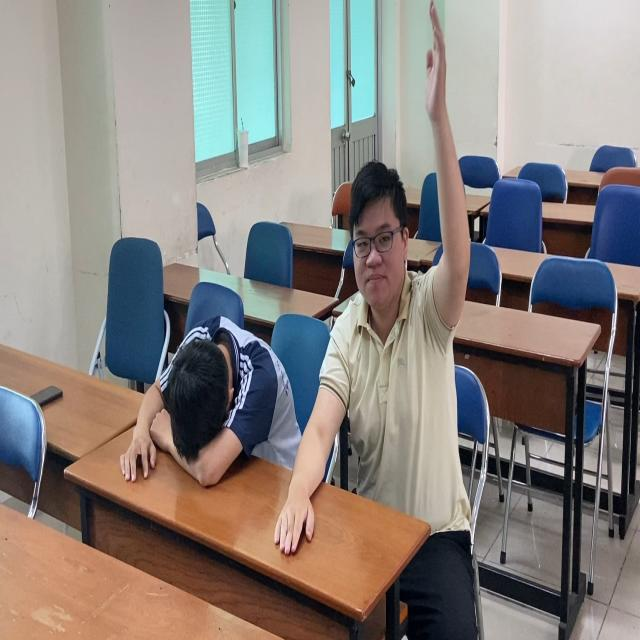raise_hand: (312, 2, 481, 540)
sleep: (113, 298, 295, 486)
